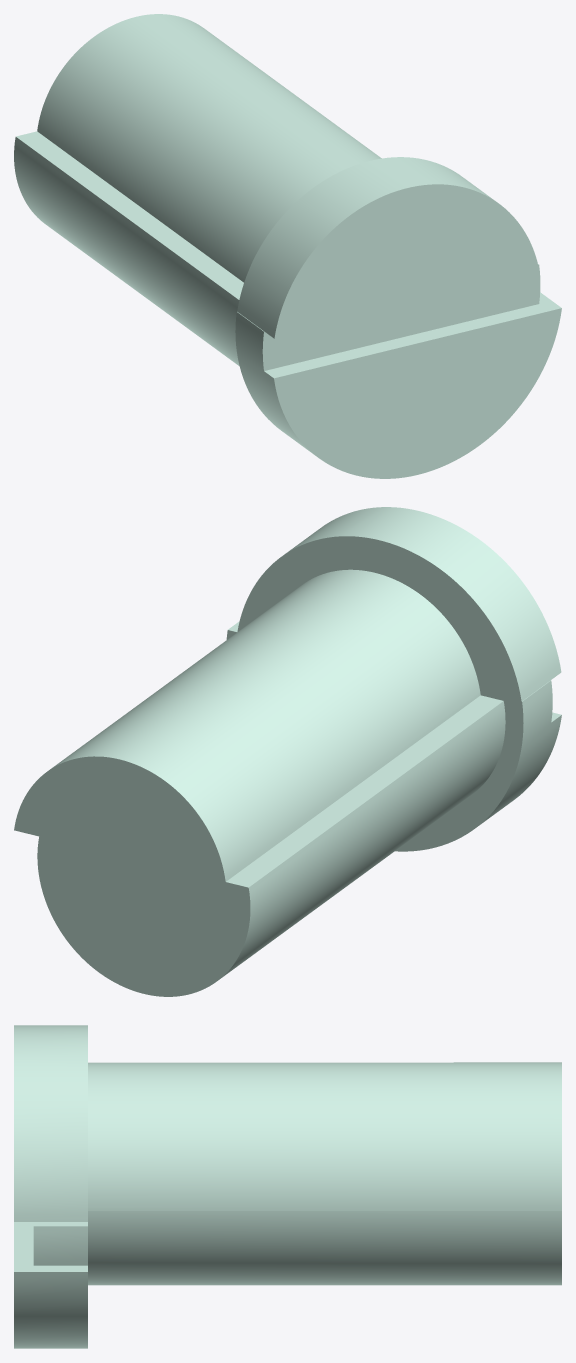
3 renders of one model, top to bottom at view 1: azimuth 30°, elevation 25°; view 2: azimuth 150°, elevation 25°; view 3: azimuth 270°, elevation 25°, orthographic. The views are drawn at different scales.
Visible parts, largest first — view 1: Renderer Node; view 2: Renderer Node; view 3: Renderer Node.
Part boxes in pixels (bbox=[...]): Renderer Node: bbox=[14, 14, 561, 478]; Renderer Node: bbox=[14, 507, 561, 996]; Renderer Node: bbox=[14, 1025, 561, 1348].
Bounding box in the file's own units: 0.5258 × 0.5025 × 0.8672.
